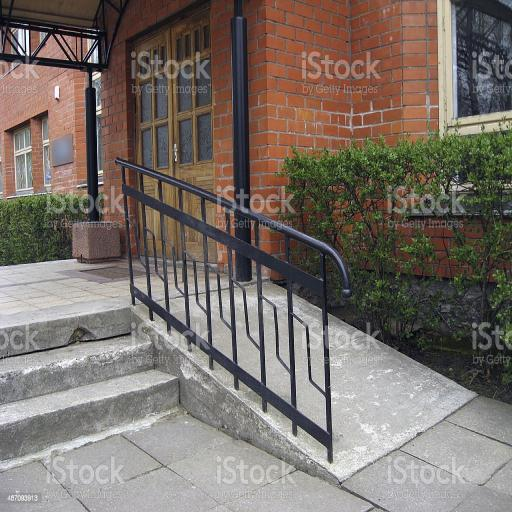ramp: (131, 290, 477, 484)
stairs: (1, 315, 179, 458)
